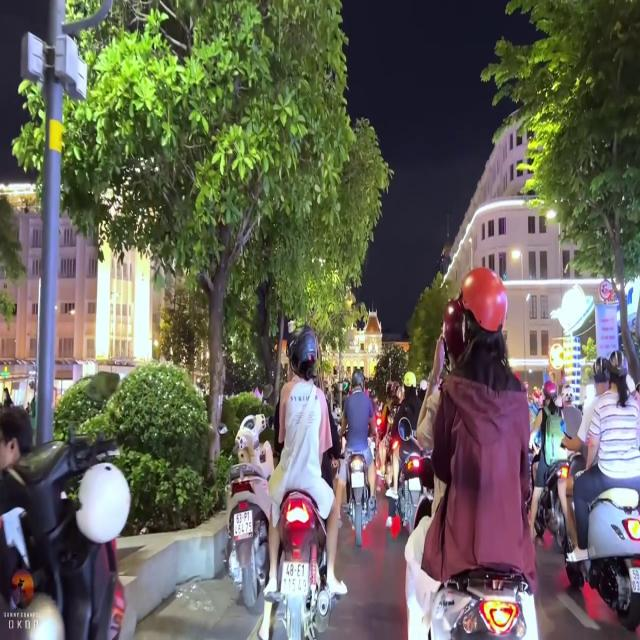bien_trang: (281, 559, 309, 602), (234, 510, 253, 542)
